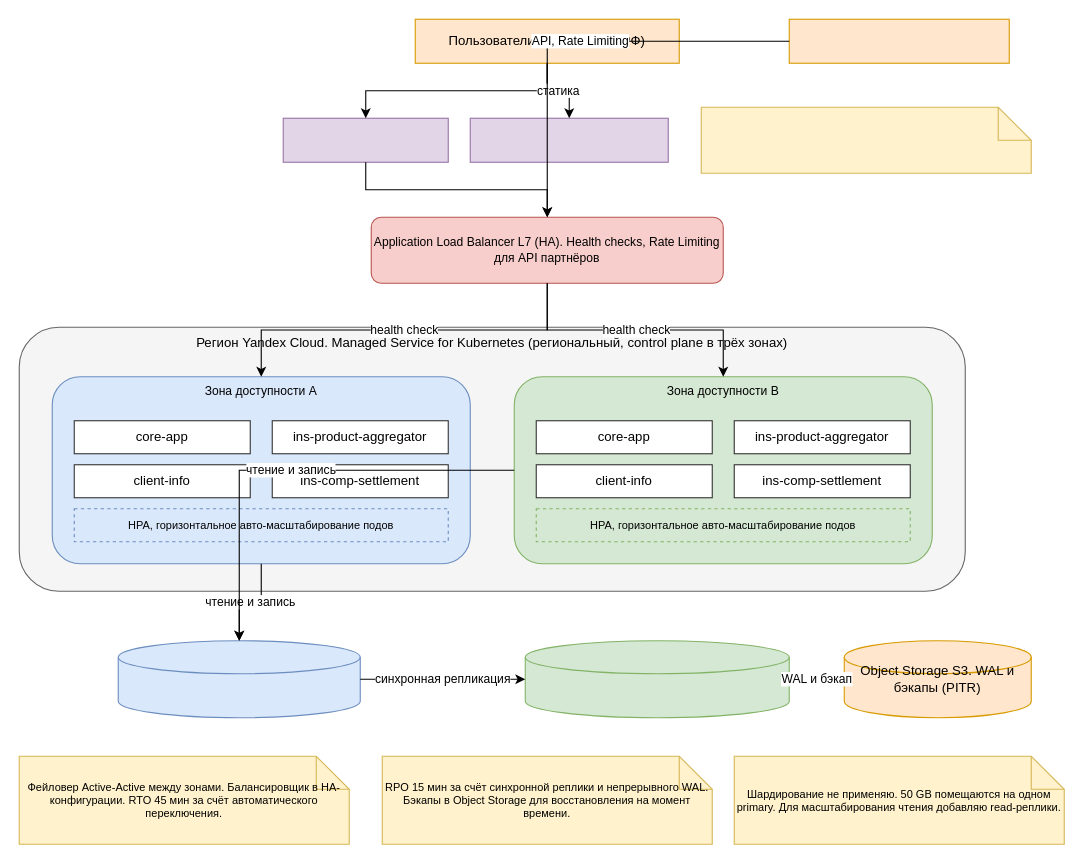
Image size: 1084x864. Some labels were removed from this diagram. Here are the shapes that lost their labels. From the top down, the centre of each, then its label:
the point at 898,40: B2B партнёры (API)
the point at 365,139: Yandex Cloud DNS
the point at 568,139: Yandex Cloud CDN (статика веб-приложения)
the point at 865,139: CDN выравнивает время загрузки для всех регионов. Статика и кеш у края сети.
the point at 238,679: Managed PostgreSQL. Primary (Зона A)
the point at 656,679: Sync standby (Зона B). Patroni, автофейловер
